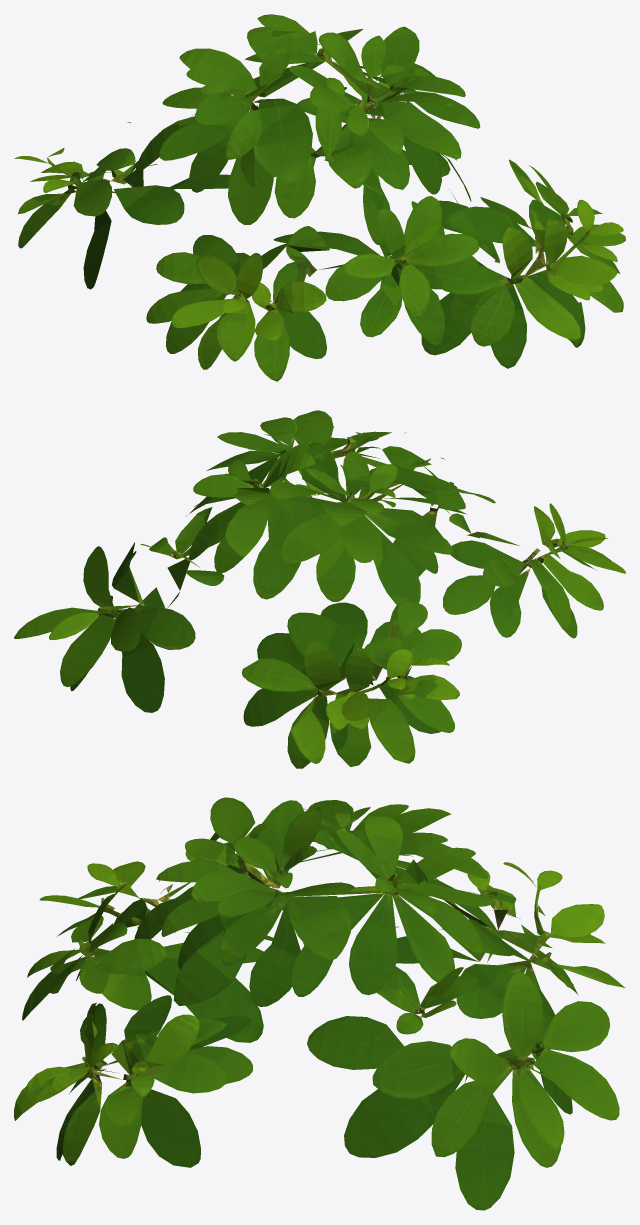
File: leaf_au.glb
The picture shows the model from 3 angles, top to bottom: view 1: azimuth 30°, elevation 25°; view 2: azimuth 150°, elevation 25°; view 3: azimuth 270°, elevation 25°; orthographic projection. The views are drawn at different scales.
Visible parts, largest first — view 1: geometry_0; view 2: geometry_0; view 3: geometry_0.
Boxes of the visible parts, x1,y1,x2,y2 form: geometry_0: (14, 14, 625, 381); geometry_0: (14, 410, 625, 768); geometry_0: (14, 797, 625, 1210).
Size of the model in its own units: 0.2998 by 0.1709 by 0.3157.
1 material, 1 textured.
